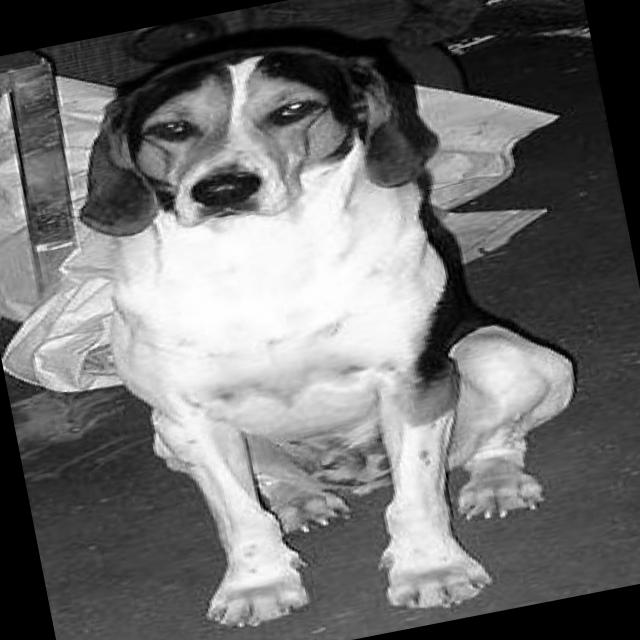sitting: (39, 0, 618, 640)
